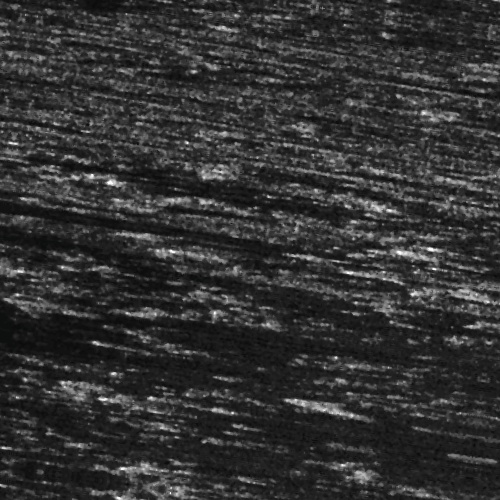object: (92, 206, 185, 227), (54, 193, 169, 208), (0, 180, 71, 195), (0, 326, 115, 335), (146, 254, 251, 263), (156, 472, 219, 483), (314, 389, 387, 398), (416, 85, 447, 88)
shadow: (4, 180, 259, 195), (0, 232, 218, 247), (112, 193, 309, 208), (52, 326, 249, 335), (139, 206, 204, 227), (188, 472, 265, 483), (351, 389, 434, 398), (199, 254, 267, 263), (0, 374, 60, 383), (432, 85, 500, 88)
